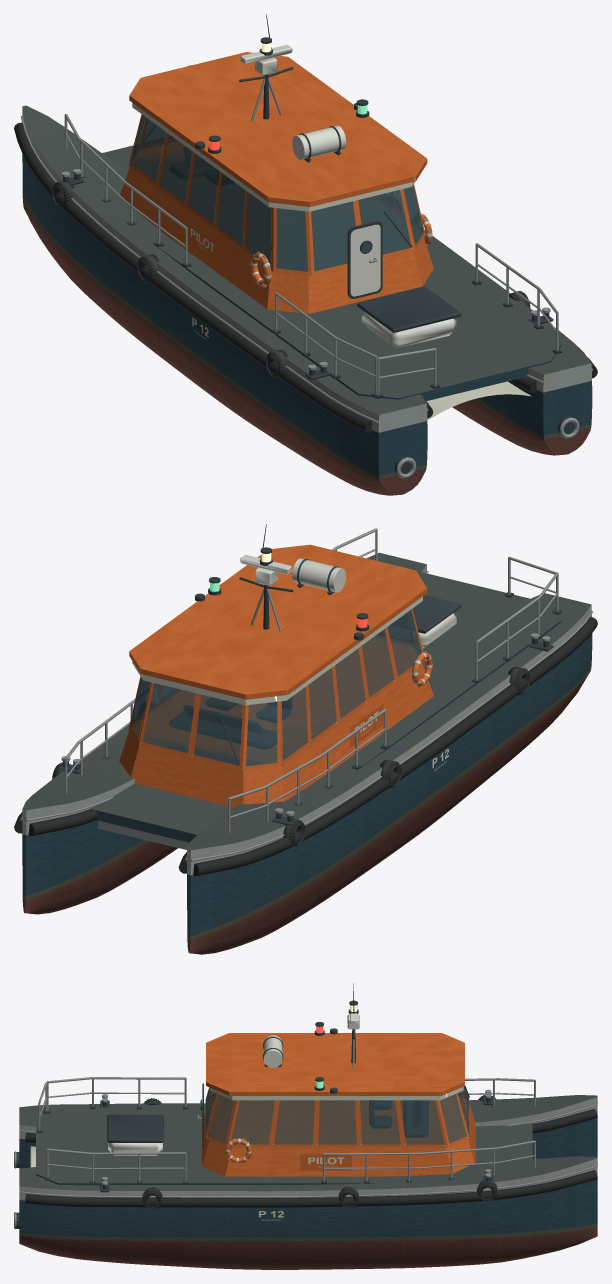
The model's file is pilot.fbx.
3 renders of one model, top to bottom at view 1: azimuth 30°, elevation 25°; view 2: azimuth 150°, elevation 25°; view 3: azimuth 270°, elevation 25°, orthographic. The views are drawn at different scales.
Visible parts, largest first — view 1: pilot_assembly; view 2: pilot_assembly; view 3: pilot_assembly.
Part boxes in pixels (left/top/right/bottom): pilot_assembly: left=14, top=14, right=597, bottom=495; pilot_assembly: left=14, top=524, right=597, bottom=954; pilot_assembly: left=14, top=983, right=597, bottom=1269.
Size of the model in its own units: 4.59 by 5.81 by 12.02.
14 materials, 3 textured.
